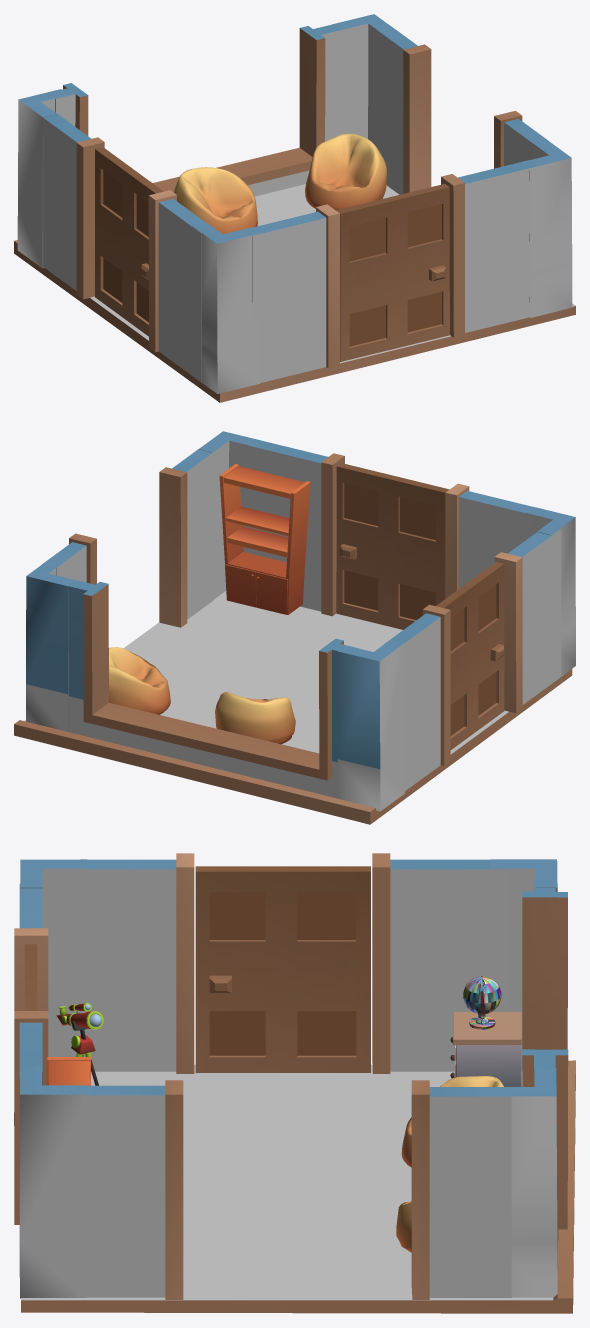
The model's file is LIBRERIA.fbx.
3 views of the same model, one above another, from view 1: azimuth 30°, elevation 25°; view 2: azimuth 150°, elevation 25°; view 3: azimuth 270°, elevation 25° (orthographic). The views are drawn at different scales.
Parts seen in each view (by area): view 1: paret_puerta49, paret_puerta50, puerta31, paret_con_ventana_grande24, paret_esquina_84, puerta28, paret_con_borde14, paret_esquina_82, suelo9, puf6, paret_esquina_81, paret_esquina_79 (+3 smaller); view 2: suelo9, paret_con_ventana_grande24, paret_puerta50, puerta31, paret_puerta49, paret_esquina_81, mueble_estanteria2, paret_con_borde13, puerta28, paret_esquina_79, fombra11, puf5 (+4 smaller); view 3: suelo9, paret_puerta50, puerta28, paret_con_borde14, paret_con_borde13, paret_esquina_82, fombra11, paret_con_ventana_grande24, paret_esquina_79, paret_esquina_84, paret_puerta49, mueble3 (+6 smaller).
Part boxes in pixels (<box>): paret_puerta49: <box>252,160,537,382</box>; paret_puerta50: <box>43,109,205,382</box>; puerta31: <box>336,184,449,361</box>; paret_con_ventana_grande24: <box>55,24,341,196</box>; paret_esquina_84: <box>192,222,260,393</box>; puerta28: <box>95,147,163,336</box>; paret_con_borde14: <box>376,26,431,194</box>; paret_esquina_82: <box>521,140,572,317</box>; suelo9: <box>14,185,575,402</box>; puf6: <box>305,133,386,210</box>; paret_esquina_81: <box>17,89,68,268</box>; paret_esquina_79: <box>333,14,390,146</box>; suelo9: <box>14,591,572,824</box>; paret_con_ventana_grande24: <box>67,580,358,798</box>; paret_puerta50: <box>383,528,561,790</box>; puerta31: <box>336,463,449,629</box>; paret_puerta49: <box>248,439,532,616</box>; paret_esquina_81: <box>337,640,404,811</box>; mueble_estanteria2: <box>219,464,310,614</box>; paret_con_borde13: <box>159,449,213,627</box>; puerta28: <box>436,562,504,749</box>; paret_esquina_79: <box>26,564,74,731</box>; fombra11: <box>147,654,319,745</box>; puf5: <box>215,691,295,744</box>; suelo9: <box>21,1060,575,1313</box>; paret_puerta50: <box>86,853,507,1073</box>; puerta28: <box>195,866,370,1072</box>; paret_con_borde14: <box>411,1080,511,1299</box>; paret_con_borde13: <box>83,1080,183,1299</box>; paret_esquina_82: <box>19,1066,86,1298</box>; fombra11: <box>295,1137,411,1263</box>; paret_con_ventana_grande24: <box>522,878,568,1229</box>; paret_esquina_79: <box>502,1068,557,1297</box>; paret_esquina_84: <box>20,859,87,1056</box>; paret_puerta49: <box>14,883,48,1224</box>; mueble3: <box>450,976,521,1086</box>.
Bounding box in the file's own units: 847 × 360 × 832.
